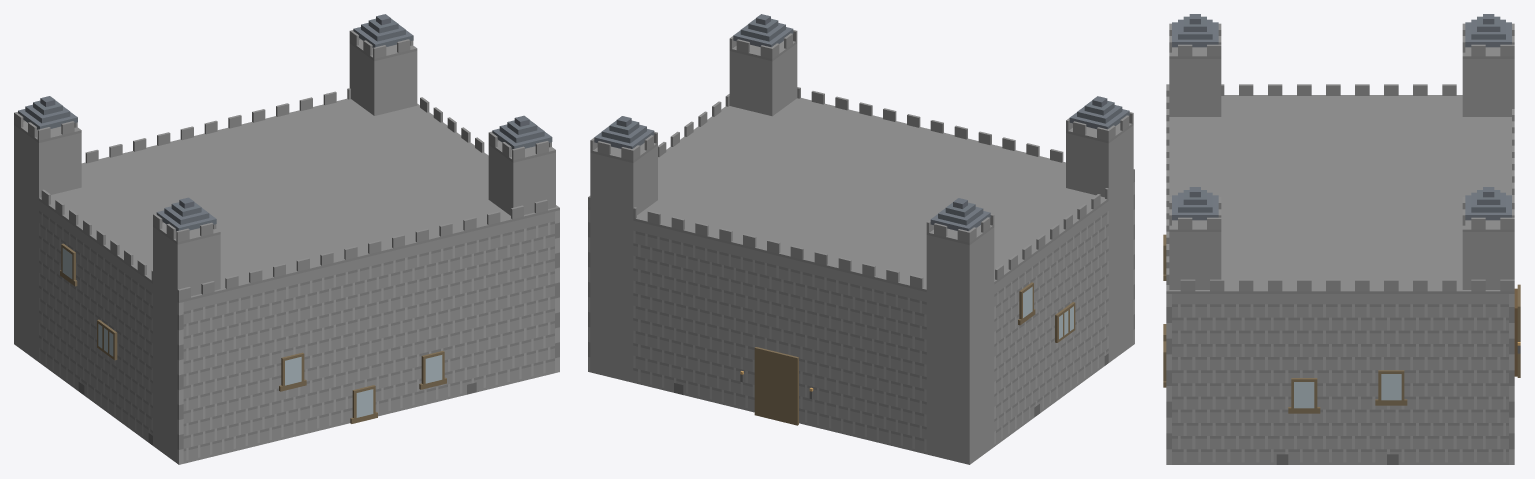
The model's file is castillo_04.glb.
3 views of the same model, side by side, from view 1: azimuth 30°, elevation 25°; view 2: azimuth 150°, elevation 25°; view 3: azimuth 270°, elevation 25° (orthographic). The views are drawn at different scales.
Parts seen in each view (by area): view 1: castillo_04; view 2: castillo_04; view 3: castillo_04.
Boxes of the visible parts, box(x1,y1,x2,y2) form: castillo_04: box(14, 14, 559, 464); castillo_04: box(588, 14, 1134, 464); castillo_04: box(1163, 14, 1520, 464).
Bounding box in the file's own units: 16.2 × 10 × 12.3.
